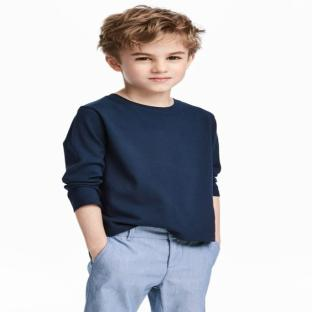Human: (63, 6, 221, 312)
